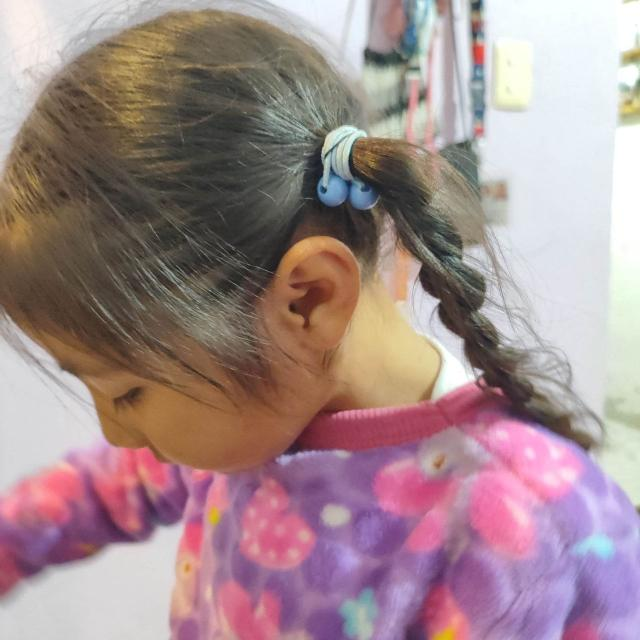ear: (276, 238, 360, 359), (299, 260, 304, 265)
